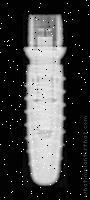Camlog: (19, 14, 68, 188)
